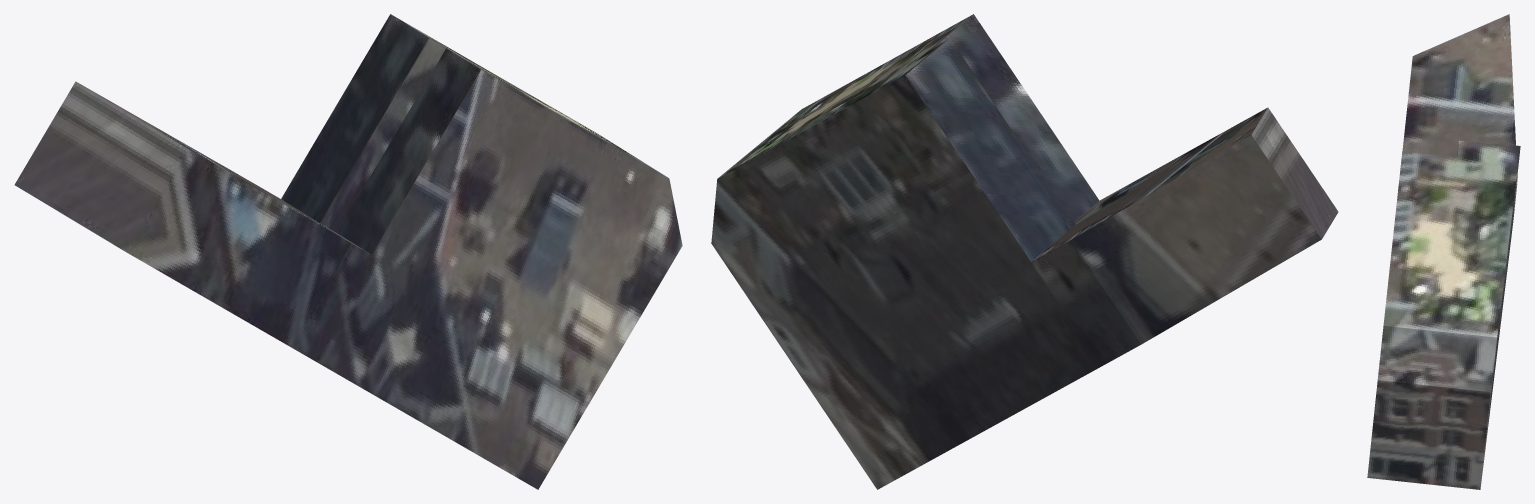
3 views of the same model, side by side, from view 1: azimuth 30°, elevation 25°; view 2: azimuth 150°, elevation 25°; view 3: azimuth 270°, elevation 25° (orthographic). The views are drawn at different scales.
Visible parts, largest first — view 1: BAG_0599100000671728; view 2: BAG_0599100000671728; view 3: BAG_0599100000671728.
Part boxes in pixels (bbox=[...]): BAG_0599100000671728: bbox=[14, 14, 682, 489]; BAG_0599100000671728: bbox=[711, 14, 1338, 489]; BAG_0599100000671728: bbox=[1367, 14, 1520, 489].
Bounding box in the file's own units: 26.78 × 19.22 × 7.92.
Materials: 2 (1 with a texture image).
